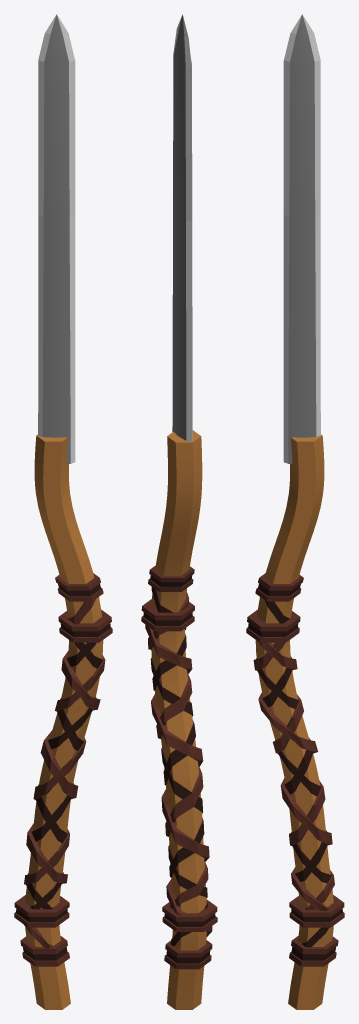
File: Axe25.glb
3 views of the same model, side by side, from view 1: azimuth 90°, elevation 25°; view 2: azimuth 210°, elevation 25°; view 3: azimuth 270°, elevation 25° (orthographic).
Visible parts, largest first — view 1: weapon_generator; view 2: weapon_generator; view 3: weapon_generator.
Part boxes in pixels (bbox=[...]): weapon_generator: bbox=[14, 14, 112, 1009]; weapon_generator: bbox=[141, 14, 217, 1009]; weapon_generator: bbox=[246, 14, 344, 1009].
Bounding box in the file's own units: 0.0556 × 1.27 × 0.1147.
